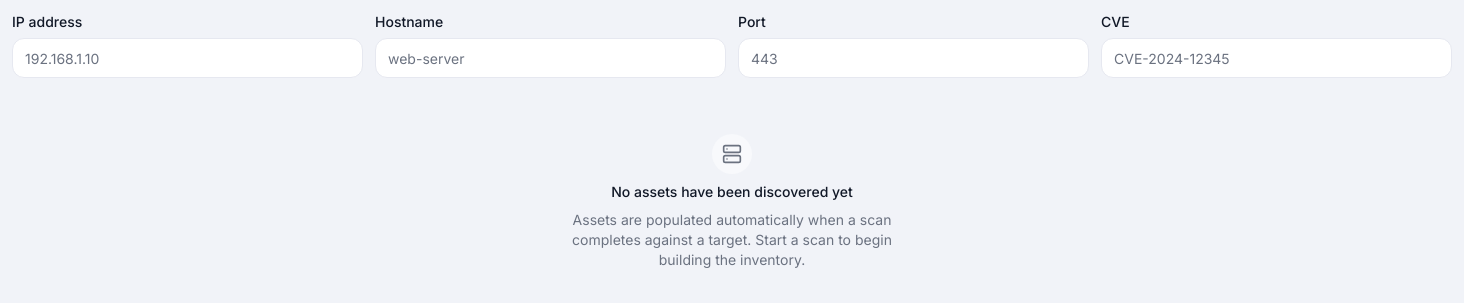
Scenario: AssetList — states › shows a distinct filtered-empty state with a working Clear filters action
The width and height of the screenshot is (1464, 303).
Step 1. Type "10.0.0.99" into the field labelled "IP address" → (188, 58), box [12,38,363,78]
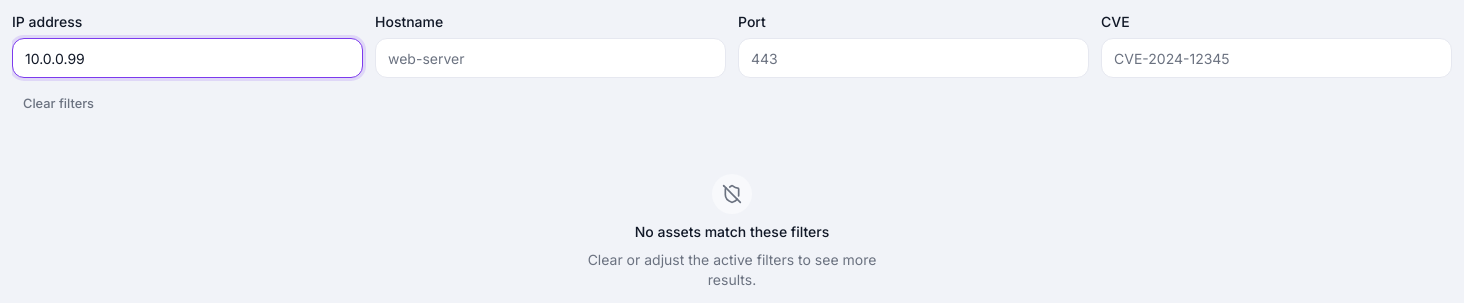
Result: the text "No assets match these filters" is shown at [635,222,829,242]
Step 2. Click the button "Clear filters" → (58, 104), box [12,90,105,118]
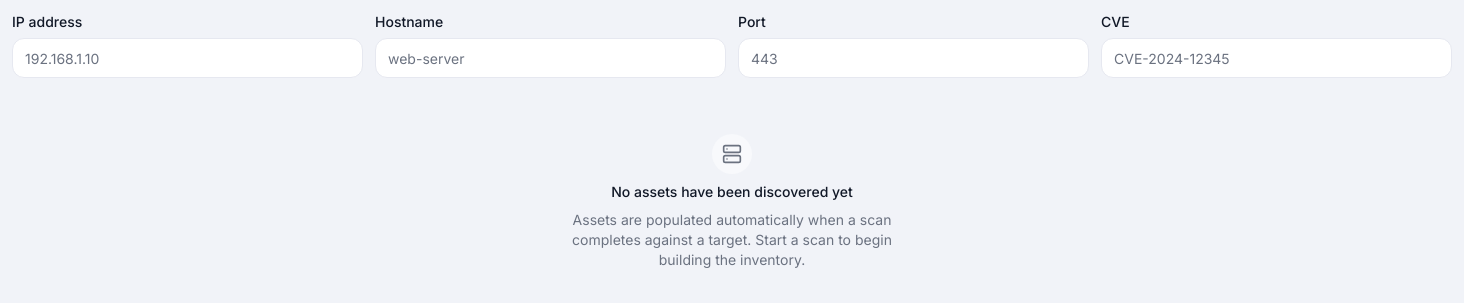
Result: the text "No assets have been discovered yet" is shown at [611,182,853,202]
